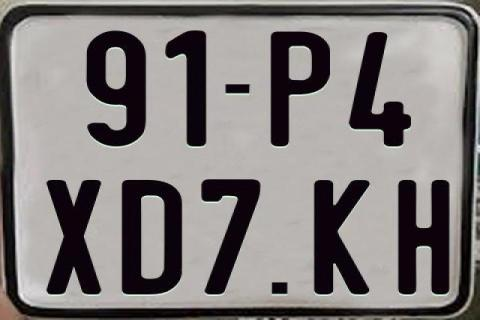0: (346, 29, 414, 149), (85, 30, 148, 150), (201, 178, 263, 296), (165, 29, 212, 145)
D: (120, 180, 182, 294)
H: (398, 178, 454, 292)
K: (313, 179, 369, 295)
P: (269, 29, 331, 148)
X: (44, 177, 103, 297)
